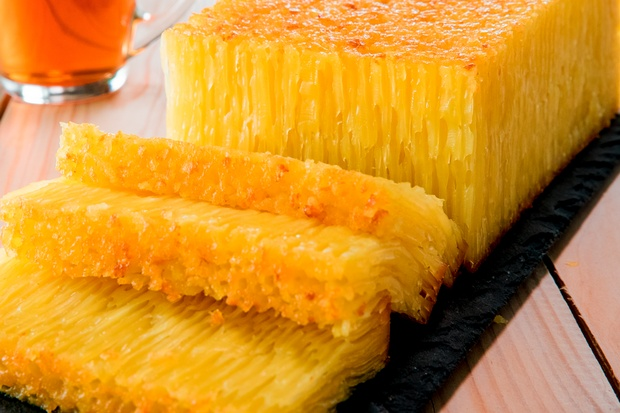bika_ambon: (49, 119, 437, 404)
